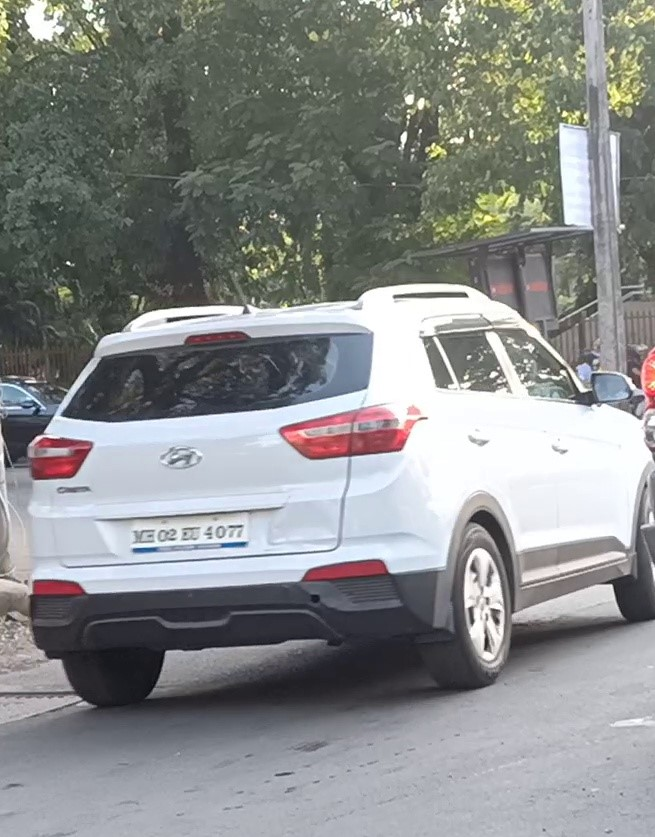MH02EU4077: (128, 510, 247, 549)
